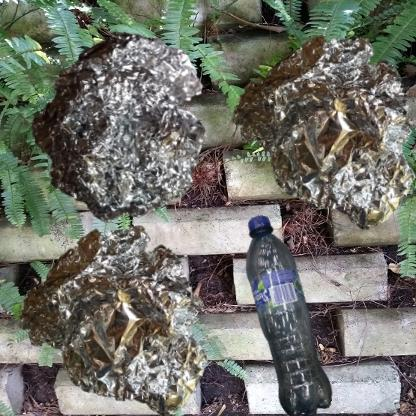aluminio: (10, 10, 241, 256), (213, 10, 416, 245), (10, 213, 223, 416)
botella: (213, 213, 375, 416)
